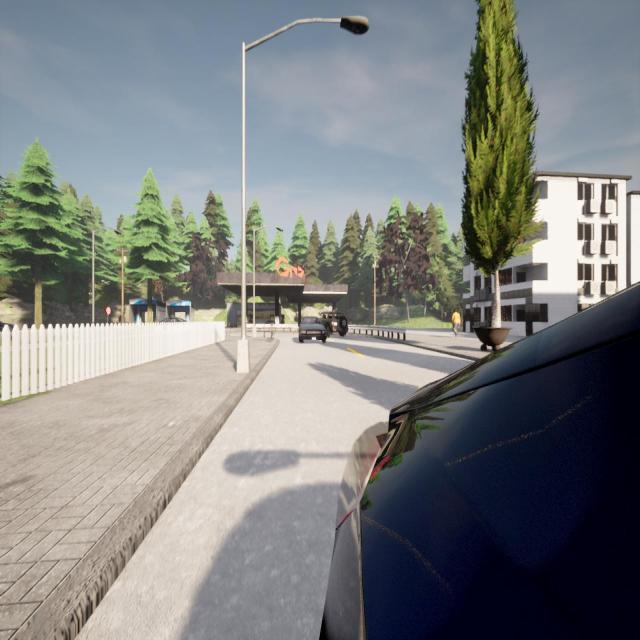Pedestrian: (452, 308, 461, 336)
Traffic_Signs: (105, 306, 112, 316)
Vehicle: (322, 284, 640, 638), (298, 316, 326, 343), (321, 312, 348, 337), (158, 317, 186, 322)
